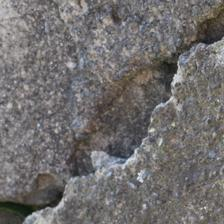Crack: (31, 36, 223, 219)
